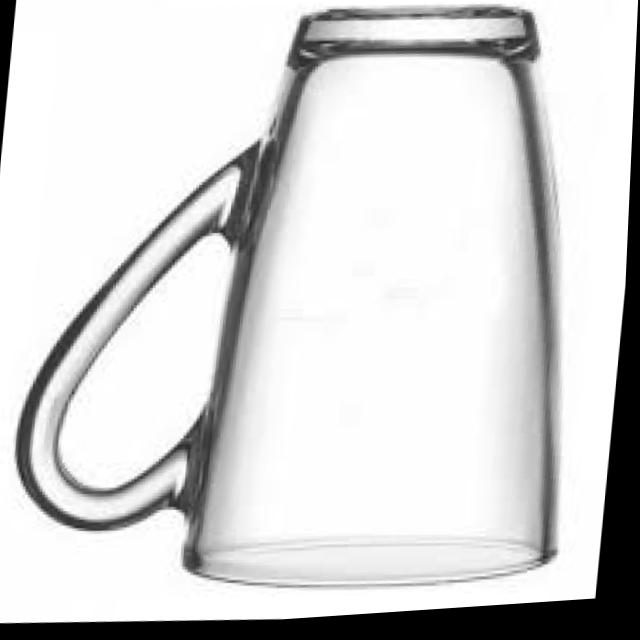Dry: (3, 0, 612, 624)
